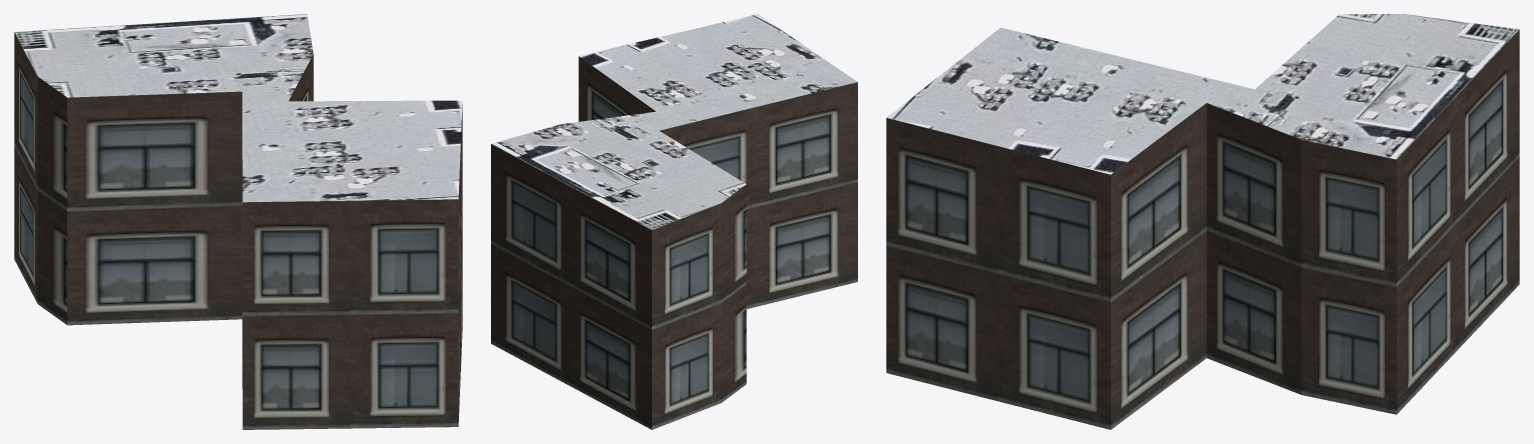
Rendered from ResTex__3310.fbx.
The picture shows the model from 3 angles, left to right: view 1: azimuth 30°, elevation 25°; view 2: azimuth 150°, elevation 25°; view 3: azimuth 270°, elevation 25°; orthographic projection. The views are drawn at different scales.
Parts seen in each view (by area): view 1: CityEngineMaterial_16_m, CityEngineMaterial_15_m; view 2: CityEngineMaterial_16_m, CityEngineMaterial_15_m; view 3: CityEngineMaterial_16_m, CityEngineMaterial_15_m.
Boxes of the visible parts, x1=… form: CityEngineMaterial_16_m: x1=14, y1=32, x2=462, y2=429; CityEngineMaterial_15_m: x1=14, y1=14, x2=462, y2=202; CityEngineMaterial_16_m: x1=491, y1=56, x2=857, y2=429; CityEngineMaterial_15_m: x1=491, y1=14, x2=857, y2=229; CityEngineMaterial_16_m: x1=886, y1=29, x2=1519, y2=429; CityEngineMaterial_15_m: x1=886, y1=14, x2=1518, y2=174.
Size of the model in its own units: 8.1 by 6 by 13.49.
Materials: 2 (2 with a texture image).
